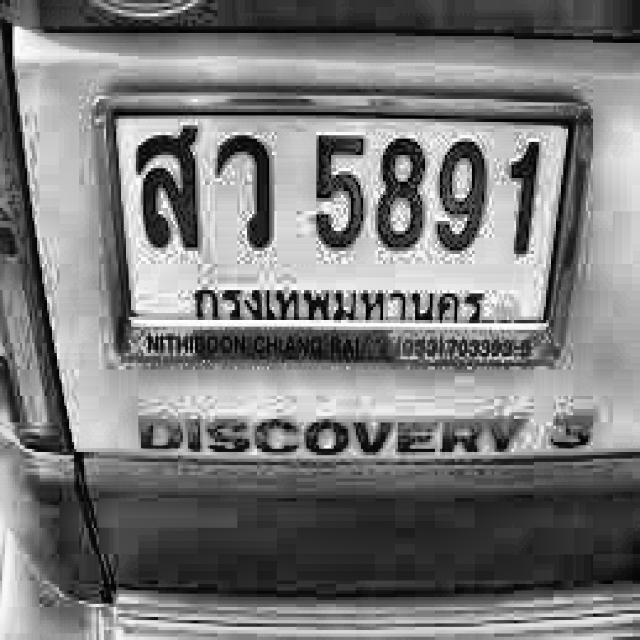license-plate: (72, 73, 604, 382)
